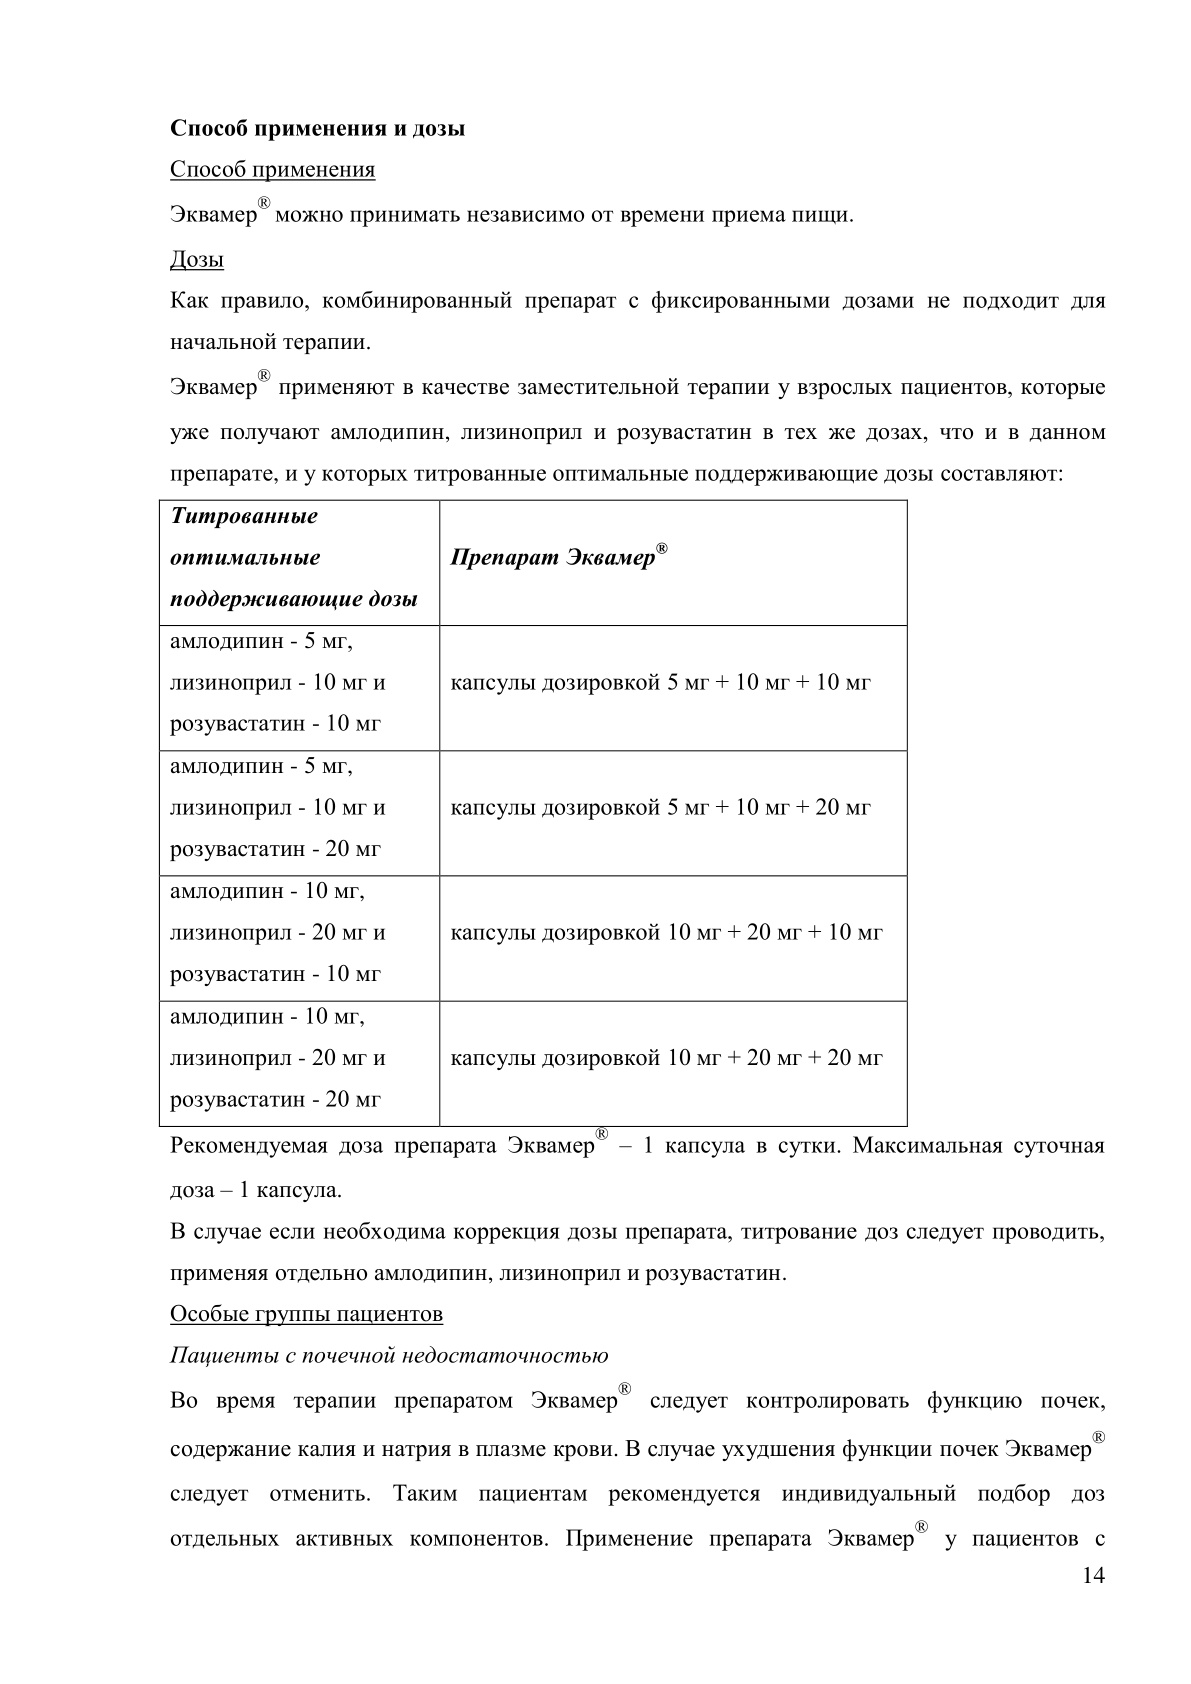full_lined: (159, 499, 909, 1127)
